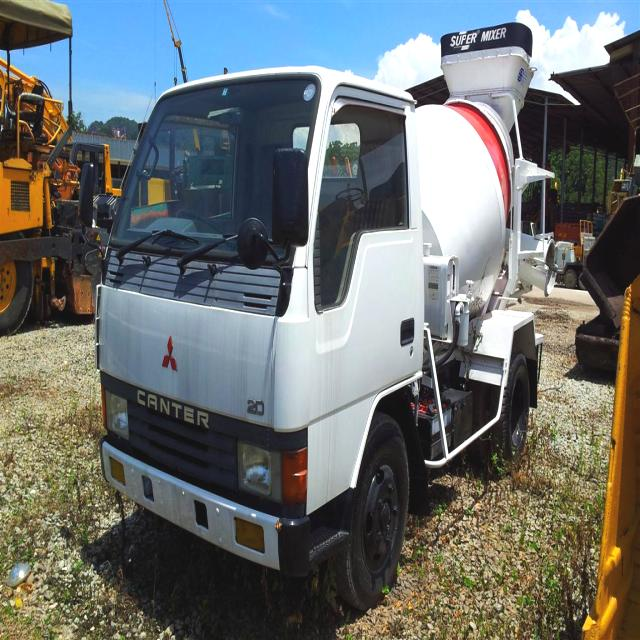truck: (82, 22, 543, 607)
